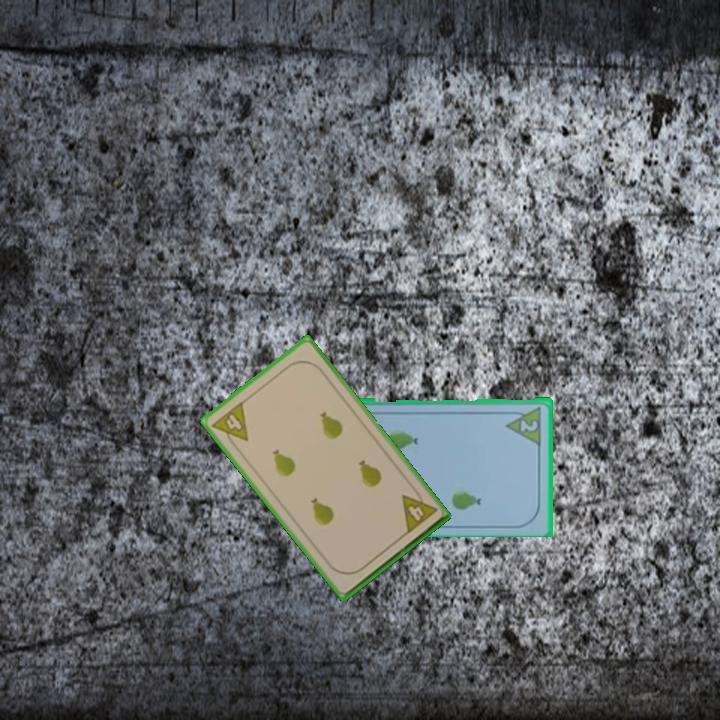2p: (517, 415, 541, 434)
4p: (208, 398, 251, 452), (398, 484, 440, 537)
